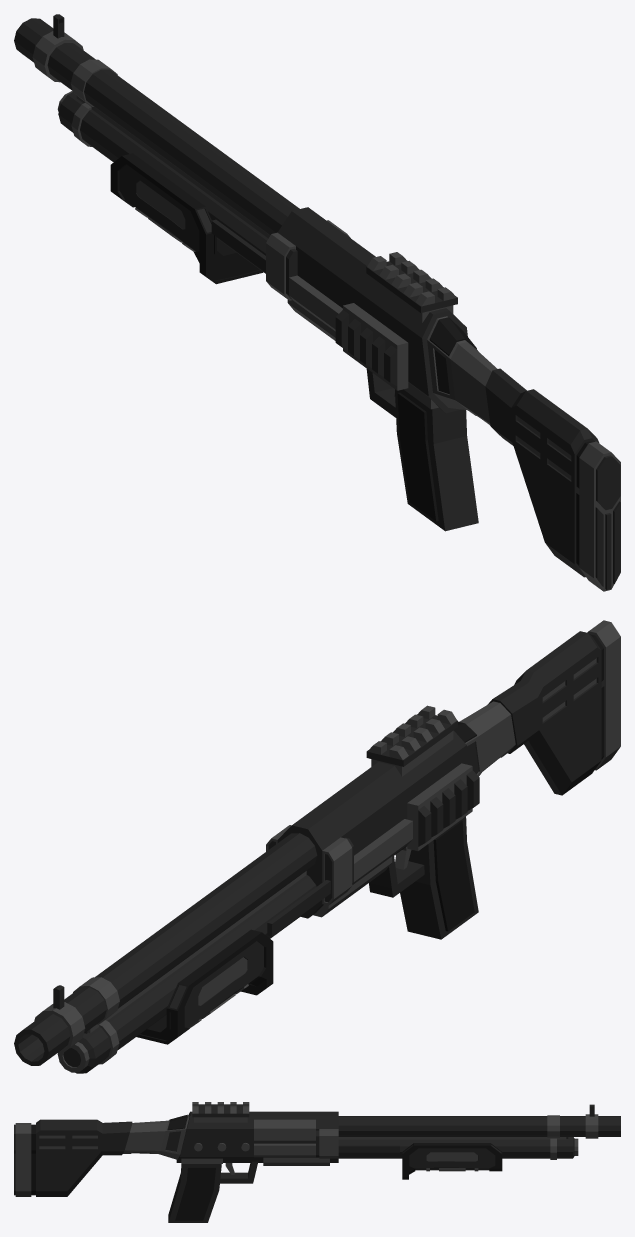
Rendered from shotgun-named-nodes.glb.
The picture shows the model from 3 angles, top to bottom: view 1: azimuth 30°, elevation 25°; view 2: azimuth 150°, elevation 25°; view 3: azimuth 270°, elevation 25°; orthographic projection. The views are drawn at different scales.
Visible parts, largest first — view 1: XMA-10, XMA-10 forend; view 2: XMA-10, XMA-10 forend; view 3: XMA-10, XMA-10 forend, XMA-10 chamber.
Boxes of the visible parts, bbox=[...] form: XMA-10: bbox=[14, 14, 620, 591]; XMA-10 forend: bbox=[110, 153, 263, 284]; XMA-10: bbox=[14, 620, 620, 1073]; XMA-10 forend: bbox=[136, 929, 273, 1044]; XMA-10: bbox=[14, 1102, 620, 1222]; XMA-10 forend: bbox=[402, 1143, 502, 1179]; XMA-10 chamber: bbox=[254, 1119, 315, 1140].
Size of the model in its own units: 0.2023 by 0.5303 by 2.57.
1 material, 1 textured.
